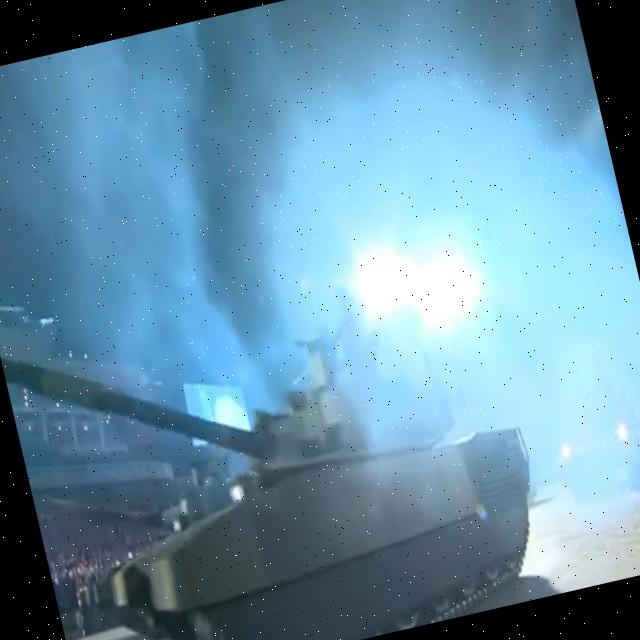north tank: (0, 212, 593, 640)
